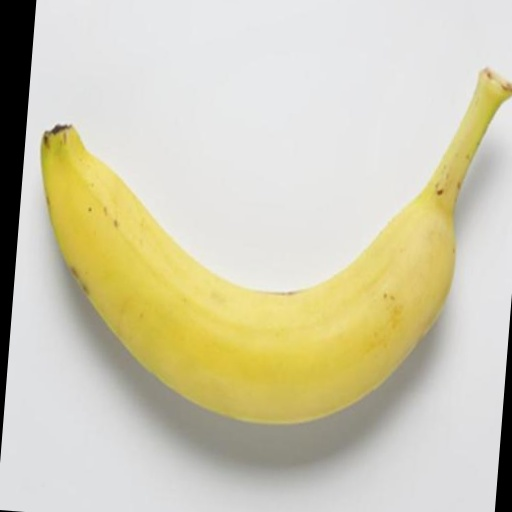fruit: (40, 69, 512, 423)
